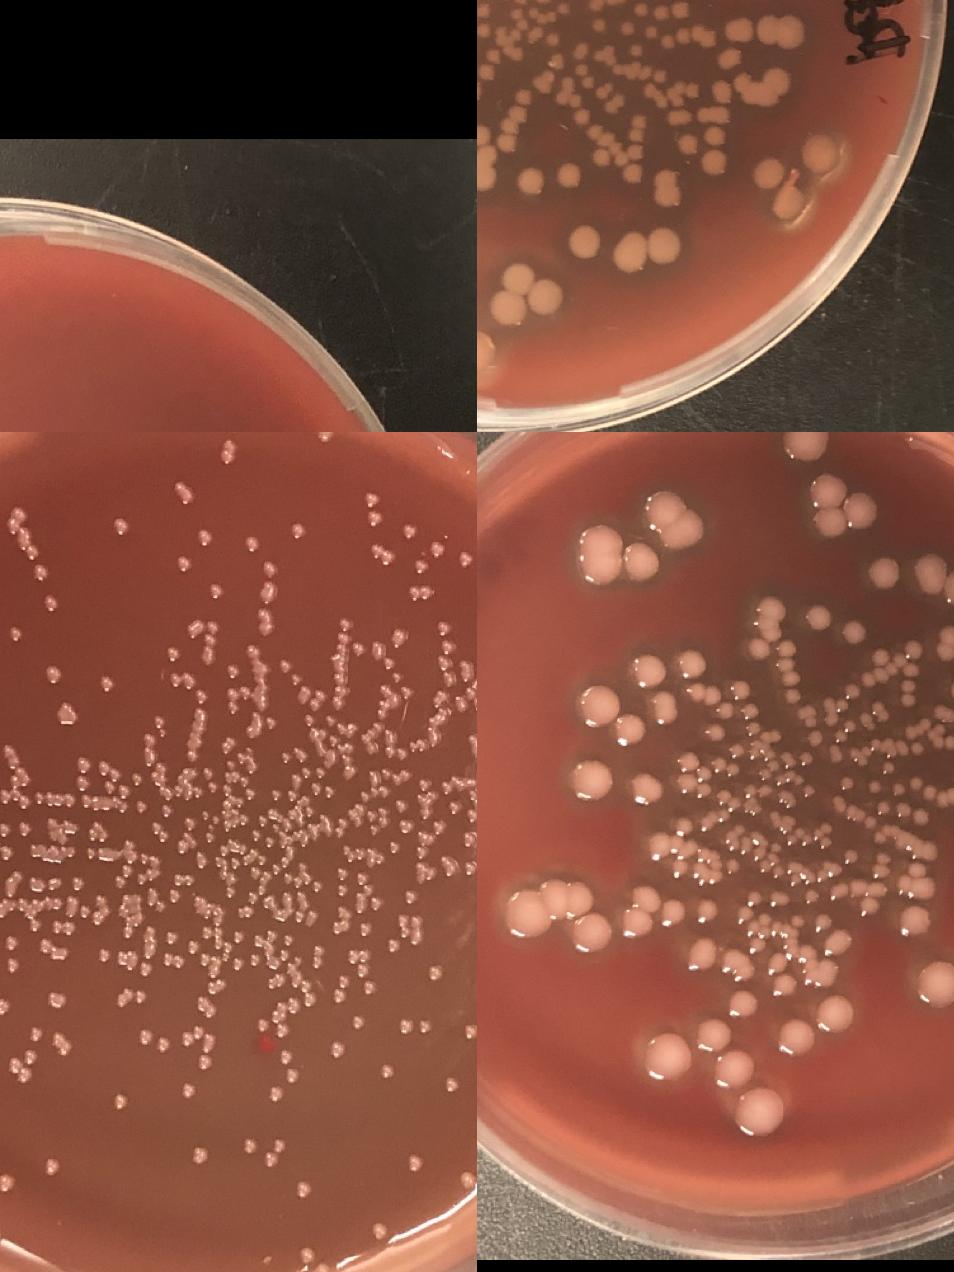assalmonicida: (330, 618, 353, 711), (4, 508, 39, 561), (307, 713, 357, 748), (97, 762, 130, 814), (0, 774, 45, 810), (183, 707, 206, 763), (334, 804, 366, 839), (270, 856, 302, 889), (112, 850, 138, 889), (367, 766, 412, 787), (288, 765, 329, 788), (395, 913, 423, 945), (381, 732, 408, 761), (201, 619, 219, 662), (379, 684, 412, 707), (344, 949, 371, 978), (235, 842, 267, 865), (366, 805, 389, 836), (224, 687, 251, 714), (357, 726, 380, 755), (452, 685, 477, 711), (114, 988, 147, 1007), (7, 1058, 31, 1083), (196, 953, 220, 979), (381, 657, 403, 684), (77, 794, 113, 810), (172, 481, 195, 506), (369, 544, 395, 566), (77, 905, 104, 926), (272, 894, 292, 922), (179, 1025, 205, 1046), (414, 732, 441, 752), (333, 975, 352, 1003), (147, 821, 169, 844), (307, 688, 329, 711), (298, 979, 316, 1007), (252, 929, 279, 947), (31, 877, 59, 894), (310, 781, 336, 799), (439, 853, 458, 876), (167, 674, 196, 689), (270, 789, 299, 804), (415, 829, 430, 858), (159, 952, 186, 969), (465, 786, 477, 822), (257, 608, 272, 636), (355, 873, 373, 896), (219, 440, 236, 464), (298, 824, 318, 844), (211, 843, 228, 866), (196, 997, 215, 1017), (280, 808, 298, 829), (49, 921, 75, 935), (3, 871, 22, 890), (197, 809, 219, 825), (407, 588, 434, 601), (311, 944, 325, 970), (259, 583, 276, 603), (170, 873, 196, 886), (459, 658, 473, 682), (223, 874, 236, 899), (205, 979, 224, 995), (219, 735, 234, 755), (210, 906, 223, 926), (4, 937, 18, 951), (6, 958, 20, 972), (8, 628, 22, 642), (22, 1050, 36, 1064), (27, 844, 41, 858), (27, 1026, 41, 1040), (44, 597, 58, 611), (45, 667, 59, 681), (62, 795, 76, 809), (98, 676, 112, 690), (112, 1096, 126, 1110), (113, 520, 127, 534), (137, 962, 151, 976), (137, 1030, 151, 1044), (163, 931, 177, 945), (164, 648, 178, 662), (167, 890, 181, 904), (177, 557, 191, 571), (181, 1084, 195, 1098), (182, 816, 196, 830), (182, 766, 196, 780), (186, 940, 200, 955), (187, 622, 201, 636), (196, 1055, 210, 1069), (198, 532, 212, 546), (243, 788, 257, 802), (265, 716, 279, 730), (272, 1008, 286, 1022), (275, 1024, 289, 1038), (279, 1050, 293, 1064), (281, 933, 295, 947), (286, 1000, 300, 1014), (288, 673, 302, 687), (291, 524, 305, 538), (293, 748, 307, 762), (302, 713, 316, 727), (304, 908, 318, 922), (311, 880, 325, 894), (334, 883, 348, 897), (335, 867, 349, 881), (343, 767, 357, 781), (352, 642, 366, 656), (372, 643, 386, 657), (376, 784, 390, 798), (386, 840, 400, 854), (386, 939, 400, 953), (398, 819, 412, 833), (402, 524, 416, 538), (403, 891, 417, 905), (432, 820, 446, 834), (434, 692, 448, 706), (437, 622, 451, 636), (440, 640, 454, 654), (443, 672, 457, 686), (463, 833, 477, 847), (17, 822, 31, 835), (27, 919, 41, 932), (32, 566, 46, 579), (38, 940, 52, 953), (44, 1162, 58, 1175), (50, 995, 64, 1008), (53, 948, 67, 962), (68, 877, 82, 890), (75, 776, 89, 789), (76, 758, 90, 771), (82, 847, 96, 860), (95, 948, 109, 962), (114, 952, 128, 966), (119, 925, 133, 938), (130, 773, 144, 786), (132, 799, 146, 812), (132, 872, 146, 885), (140, 733, 154, 746), (153, 899, 167, 912), (155, 1039, 169, 1052), (158, 803, 172, 816), (192, 1148, 205, 1162), (194, 853, 208, 866), (199, 926, 213, 939), (208, 586, 222, 599), (231, 930, 245, 944), (231, 957, 245, 971), (245, 538, 259, 551), (256, 1020, 270, 1033), (261, 896, 275, 909), (263, 562, 277, 575), (268, 1089, 282, 1102), (271, 974, 285, 987), (275, 948, 289, 962), (277, 659, 291, 672), (277, 750, 291, 763), (286, 1070, 300, 1083), (297, 1184, 311, 1197), (325, 750, 339, 763), (331, 1044, 345, 1057), (336, 919, 350, 932), (350, 1017, 364, 1030), (358, 923, 372, 936), (362, 981, 375, 995), (364, 494, 378, 507), (368, 514, 382, 527), (372, 851, 386, 864), (375, 706, 389, 719), (381, 1066, 395, 1079), (398, 1021, 412, 1034), (409, 1158, 423, 1171), (414, 561, 428, 574), (417, 777, 431, 790), (418, 1020, 432, 1033), (427, 967, 441, 980), (431, 544, 445, 557), (437, 657, 451, 670), (439, 780, 453, 793), (448, 800, 462, 813), (458, 552, 471, 566), (0, 847, 13, 860), (201, 831, 214, 844), (394, 799, 407, 812), (391, 633, 405, 645), (174, 842, 187, 854), (205, 782, 218, 794), (223, 759, 236, 771), (228, 857, 242, 869), (237, 815, 251, 827), (244, 1139, 257, 1151), (248, 955, 261, 967), (298, 686, 311, 698), (372, 1224, 385, 1236), (445, 1080, 458, 1092), (0, 1177, 11, 1191), (145, 885, 157, 897), (201, 767, 213, 779), (225, 666, 237, 678), (241, 906, 253, 918), (245, 761, 257, 773), (246, 645, 258, 657), (246, 726, 258, 738), (246, 892, 258, 904), (249, 830, 261, 842), (249, 867, 261, 879), (255, 814, 267, 826), (263, 836, 275, 848), (266, 1154, 278, 1166), (273, 1140, 285, 1152), (296, 861, 308, 873), (299, 1249, 311, 1261), (340, 844, 352, 856), (359, 790, 371, 802), (368, 898, 380, 910), (424, 868, 436, 880), (460, 1173, 472, 1185), (464, 863, 476, 875), (465, 1026, 477, 1038), (0, 824, 11, 837), (141, 948, 154, 960), (220, 942, 233, 953), (237, 775, 249, 787), (468, 733, 477, 746), (0, 904, 8, 918), (0, 1001, 7, 1015), (318, 432, 332, 439)
pddamselae: (576, 523, 662, 585), (486, 262, 564, 329), (810, 474, 878, 541), (579, 683, 646, 745), (504, 881, 572, 938), (642, 488, 703, 550), (617, 881, 662, 938), (495, 88, 532, 153), (568, 757, 614, 803), (737, 1089, 783, 1135), (913, 554, 954, 605), (568, 911, 614, 957), (644, 1035, 689, 1081), (608, 113, 646, 166), (754, 14, 806, 50), (915, 959, 954, 1005), (712, 1049, 754, 1091), (774, 1018, 816, 1059), (815, 993, 857, 1034), (798, 133, 839, 174), (565, 225, 601, 261), (643, 229, 679, 265), (785, 432, 825, 463), (628, 770, 663, 805), (694, 1018, 730, 1052), (651, 168, 680, 209), (553, 92, 589, 125), (752, 157, 785, 191), (629, 655, 662, 689), (868, 557, 901, 591), (900, 905, 933, 939), (674, 23, 717, 48), (674, 751, 698, 793), (675, 648, 707, 679), (514, 165, 543, 197), (554, 160, 583, 192), (651, 0, 689, 23), (804, 604, 832, 633), (894, 803, 929, 825), (699, 148, 727, 176), (477, 48, 499, 81), (507, 7, 527, 42), (477, 162, 496, 194), (674, 133, 698, 157), (746, 638, 770, 662), (841, 621, 865, 645), (573, 64, 595, 90), (527, 6, 555, 26), (702, 721, 727, 743), (728, 679, 752, 701), (701, 125, 725, 147), (622, 163, 642, 185), (810, 912, 832, 932), (859, 896, 879, 916), (776, 639, 795, 659), (657, 32, 674, 50), (708, 757, 727, 773), (723, 859, 741, 875), (727, 743, 745, 759), (743, 721, 761, 737), (745, 890, 763, 906), (783, 689, 801, 705), (889, 782, 907, 798), (586, 122, 601, 140), (593, 149, 608, 167), (683, 81, 698, 99), (837, 775, 855, 790), (841, 849, 859, 864), (865, 779, 883, 794), (873, 799, 891, 814), (477, 125, 489, 147), (640, 83, 657, 98), (477, 4, 491, 22), (632, 2, 647, 18), (537, 70, 554, 84), (790, 914, 805, 928), (545, 33, 559, 47), (555, 2, 569, 16), (619, 22, 633, 36), (644, 26, 658, 40), (651, 70, 665, 84), (590, 18, 604, 31), (594, 86, 608, 99), (627, 44, 641, 57), (587, 0, 605, 10), (477, 23, 488, 39), (759, 861, 773, 873), (670, 96, 683, 108), (948, 681, 954, 701), (477, 80, 482, 102), (512, 0, 529, 3)
